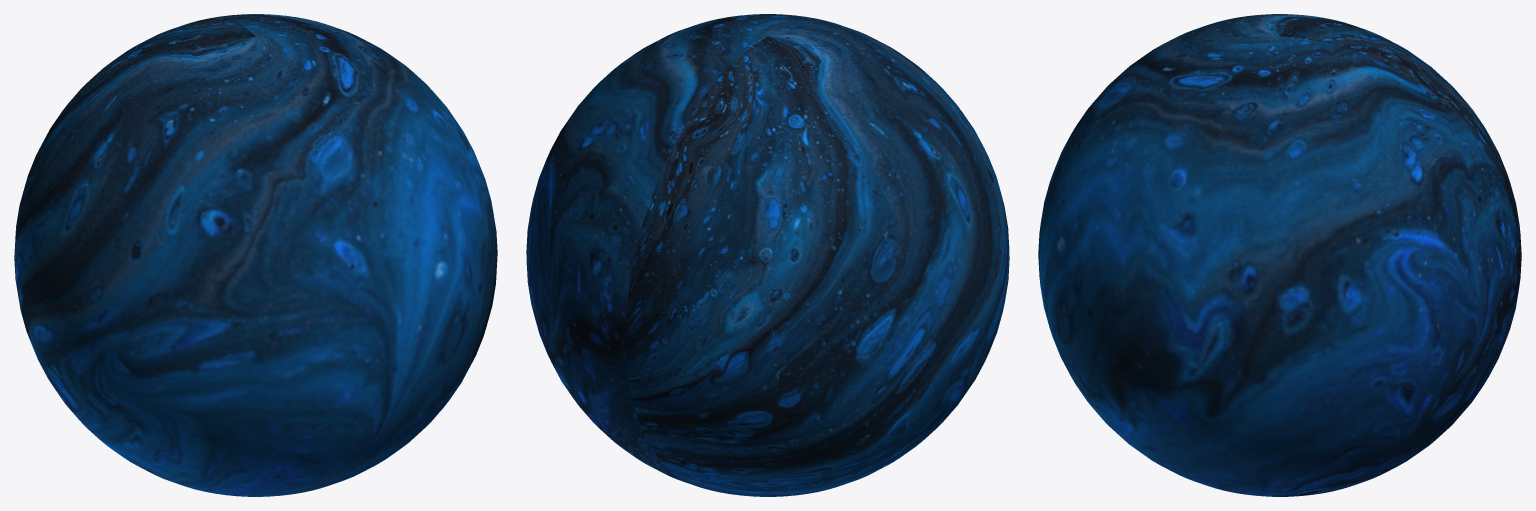
The model's file is planet.glb.
3 views of the same model, side by side, from view 1: azimuth 30°, elevation 25°; view 2: azimuth 150°, elevation 25°; view 3: azimuth 270°, elevation 25° (orthographic).
Visible parts, largest first — view 1: Object_6; view 2: Object_6; view 3: Object_6.
Part boxes in pixels (x1=…): Object_6: x1=14, y1=14, x2=497, y2=496; Object_6: x1=526, y1=14, x2=1009, y2=496; Object_6: x1=1038, y1=14, x2=1521, y2=496.
Bounding box in the file's own units: 2 × 2 × 2.
1 material, 1 textured.
